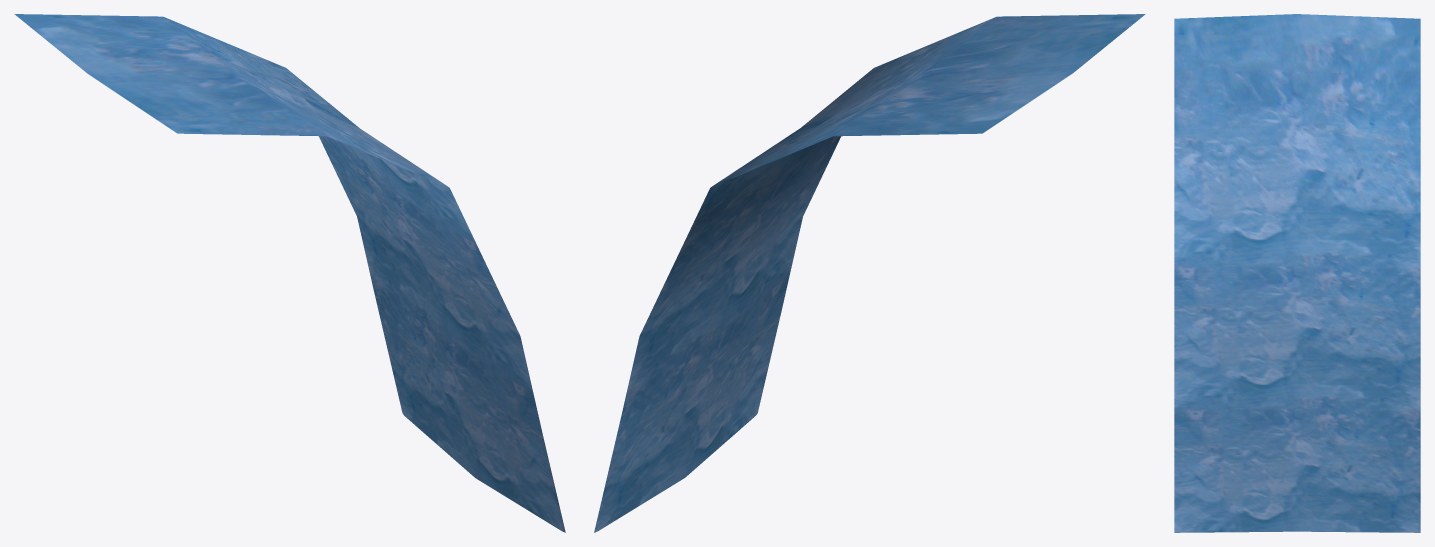
Rendered from IceC1.fbx.
The picture shows the model from 3 angles, left to right: view 1: azimuth 30°, elevation 25°; view 2: azimuth 150°, elevation 25°; view 3: azimuth 270°, elevation 25°; orthographic projection. The views are drawn at different scales.
Parts seen in each view (by area): view 1: IceC1; view 2: IceC1; view 3: IceC1.
Boxes of the visible parts, x1,y1,x2,y2 form: IceC1: (14, 14, 565, 532); IceC1: (594, 14, 1145, 532); IceC1: (1174, 14, 1420, 532).
Size of the model in its own units: 1243 by 1494 by 888.
